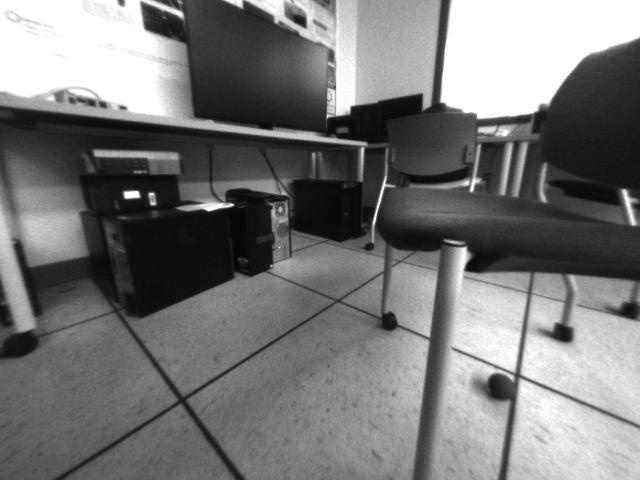dogtoy: (484, 370, 522, 406)
